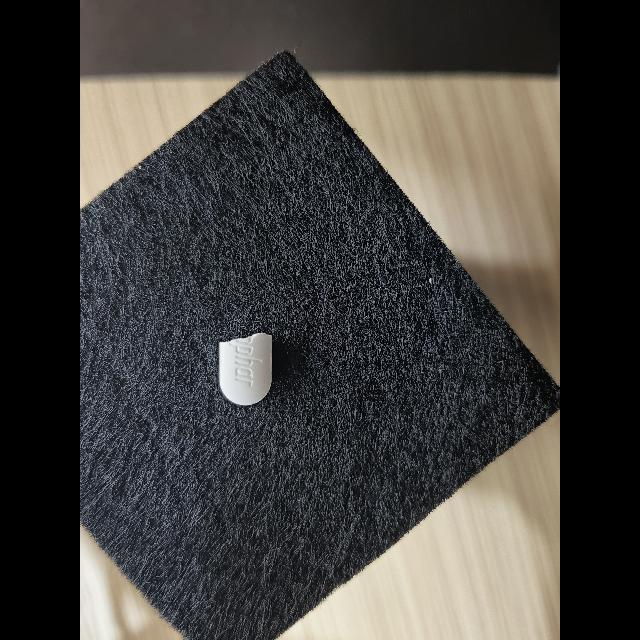Chipped Pill: (219, 333, 272, 405)
